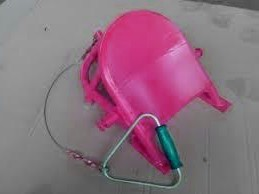chock: (79, 9, 234, 175)
